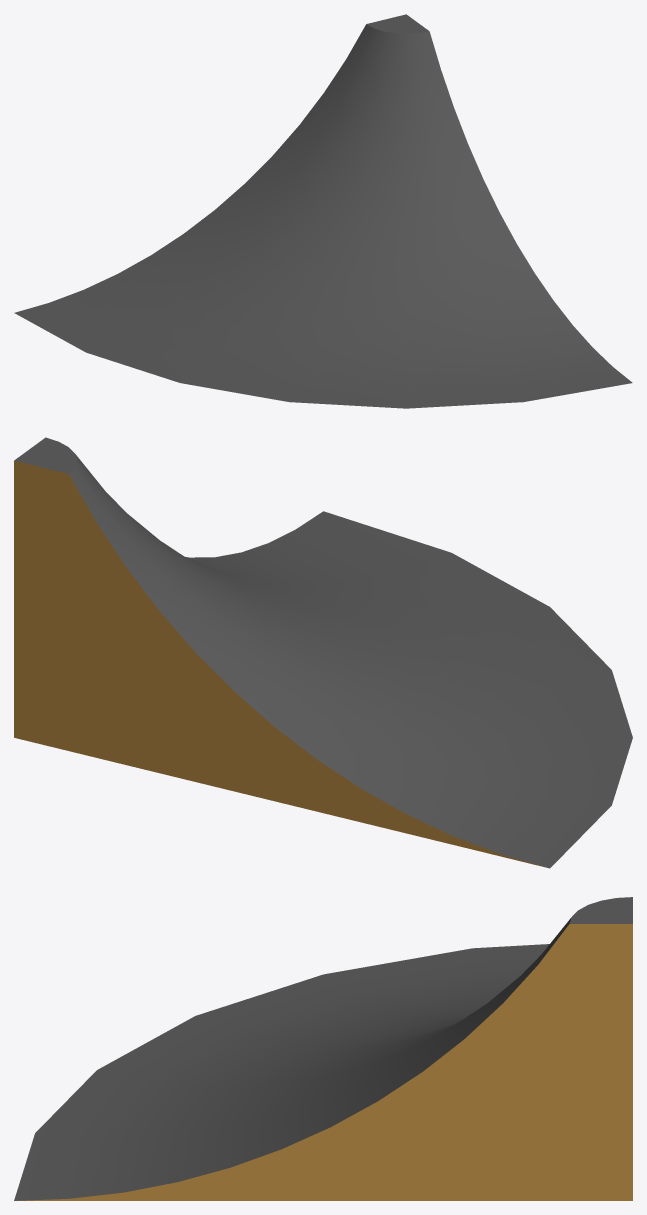
File: Skate_Bowl_Corner_Inner_01.fbx
3 renders of one model, top to bottom at view 1: azimuth 30°, elevation 25°; view 2: azimuth 150°, elevation 25°; view 3: azimuth 270°, elevation 25°, orthographic. The views are drawn at different scales.
Parts seen in each view (by area): view 1: Skate_Bowl_Corner_Inner_01; view 2: Skate_Bowl_Corner_Inner_01; view 3: Skate_Bowl_Corner_Inner_01.
Boxes of the visible parts, x1,y1,x2,y2 form: Skate_Bowl_Corner_Inner_01: (14, 14, 632, 408); Skate_Bowl_Corner_Inner_01: (14, 437, 632, 868); Skate_Bowl_Corner_Inner_01: (14, 897, 632, 1200).
Size of the model in its own units: 3 by 1.48 by 3.
